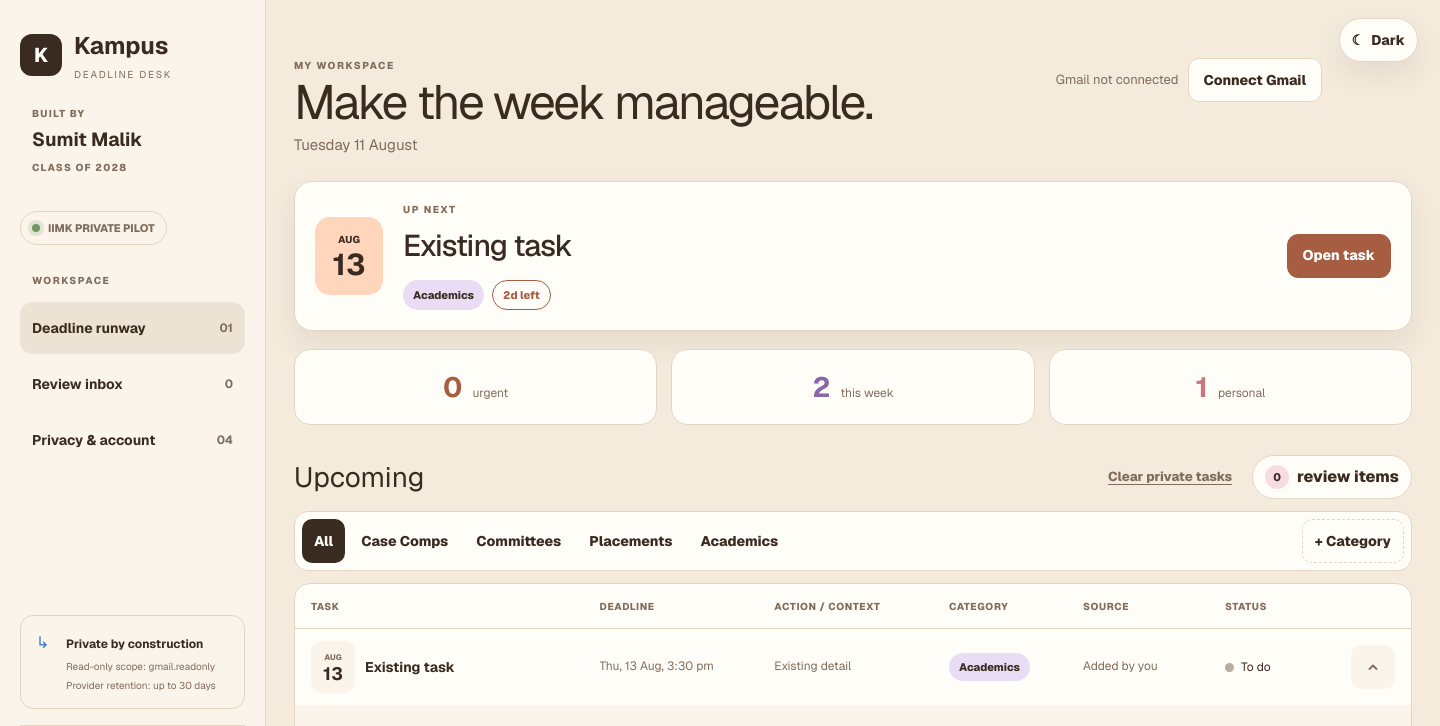
Test: dashboard local actions › clears only private tasks in place after confirming the exact count
The width and height of the screenshot is (1440, 726).
Click the tab "Case Comps" at {"x": 405, "y": 541}, box x1=349 y1=519 x2=460 y2=563
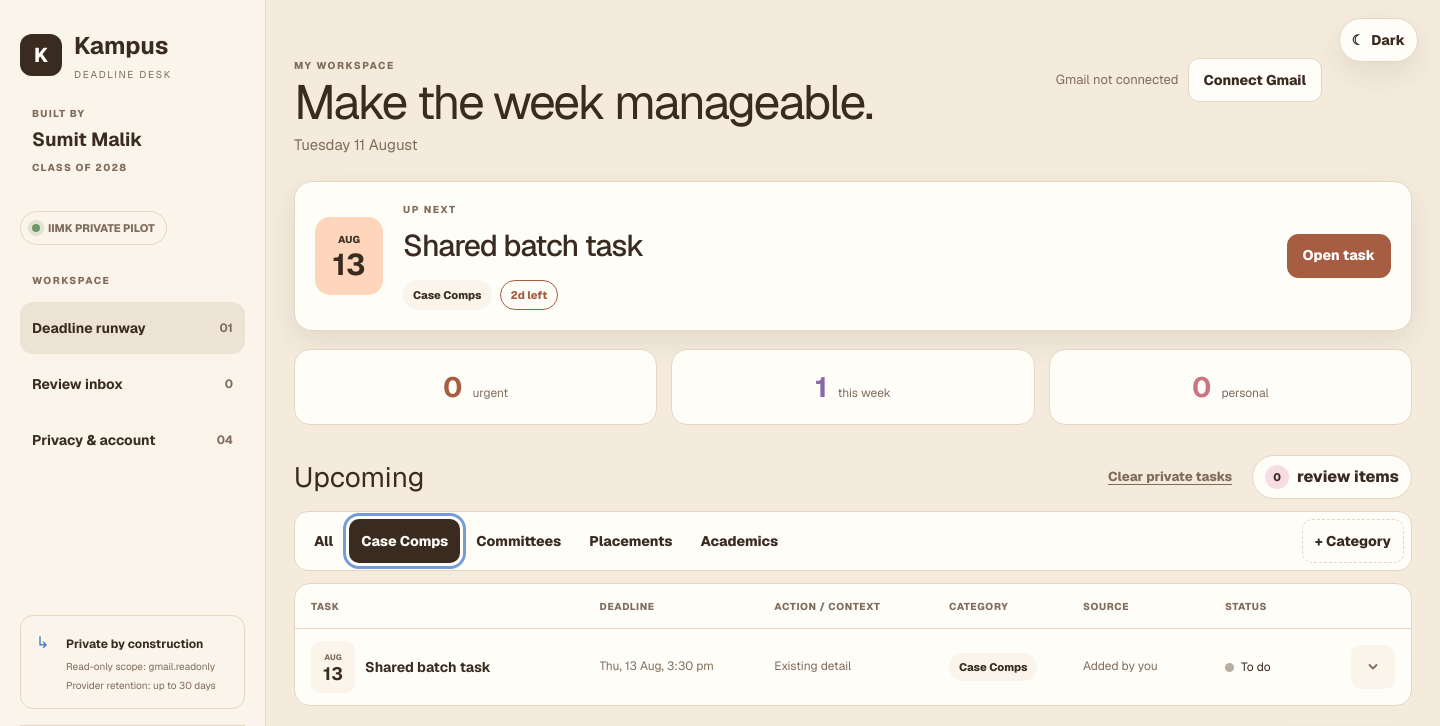
Click the button "Clear private tasks" at {"x": 1170, "y": 477}, box x1=1098 y1=455 x2=1242 y2=499
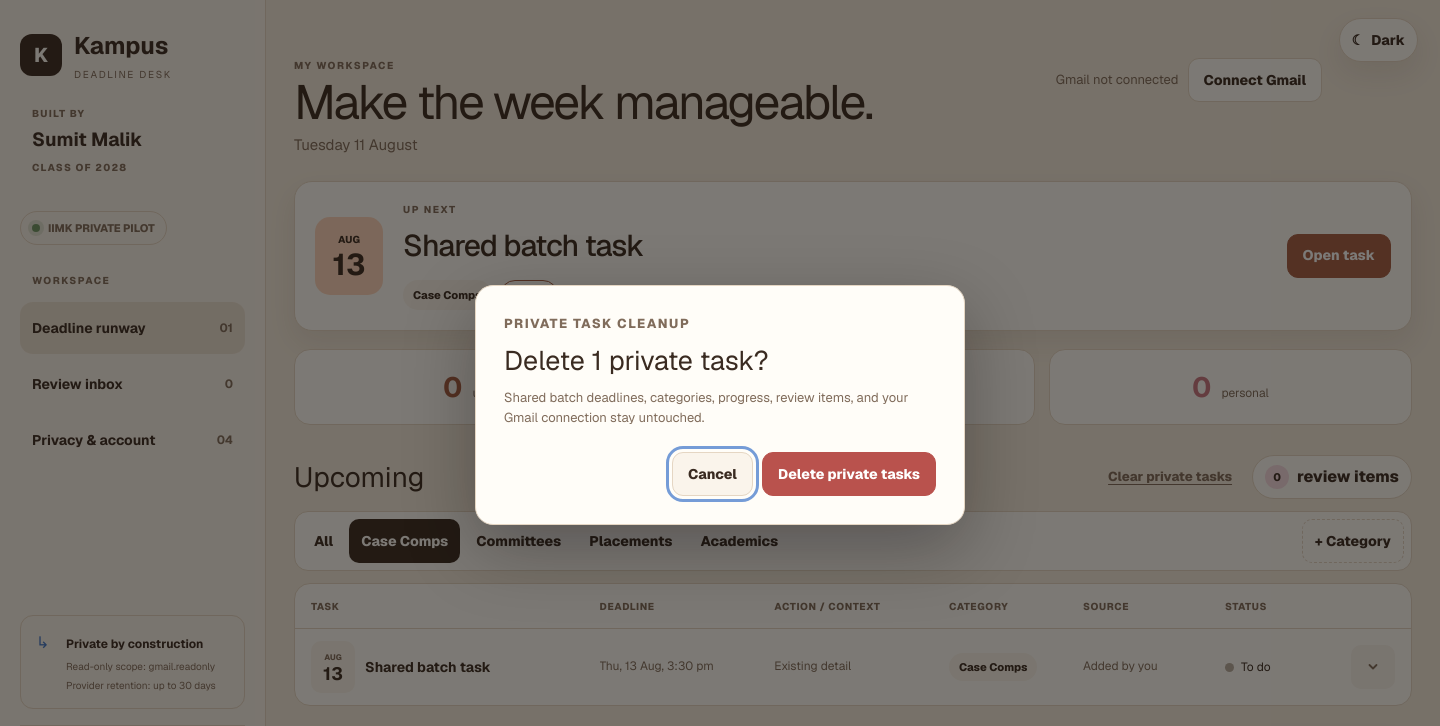
Click the button "Delete private tasks" at {"x": 849, "y": 474}, box x1=762 y1=452 x2=936 y2=496
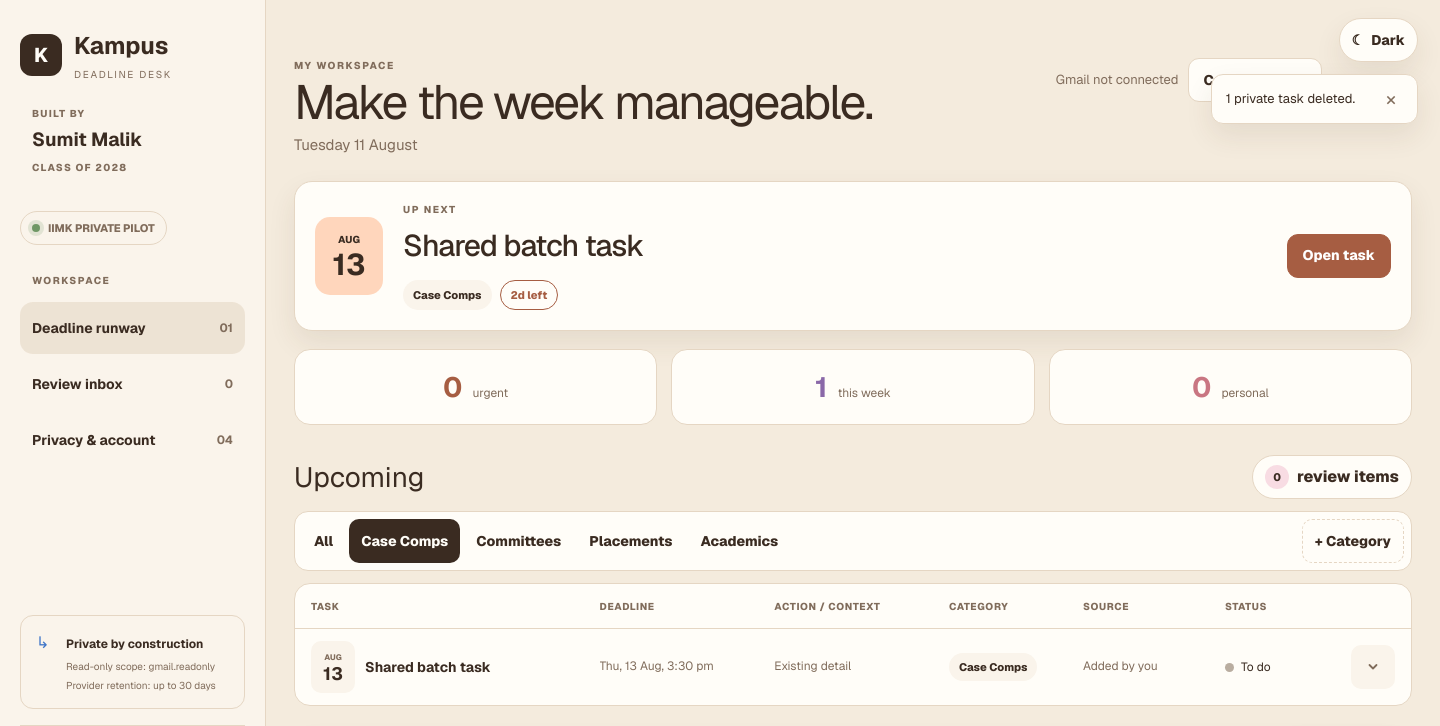
Expected: the heading "Existing task" is not shown
Result: the heading "Shared batch task" is shown at x1=403 y1=226 x2=643 y2=264
Result: the message shows "1 private task deleted" at x1=1226 y1=90 x2=1355 y2=107
